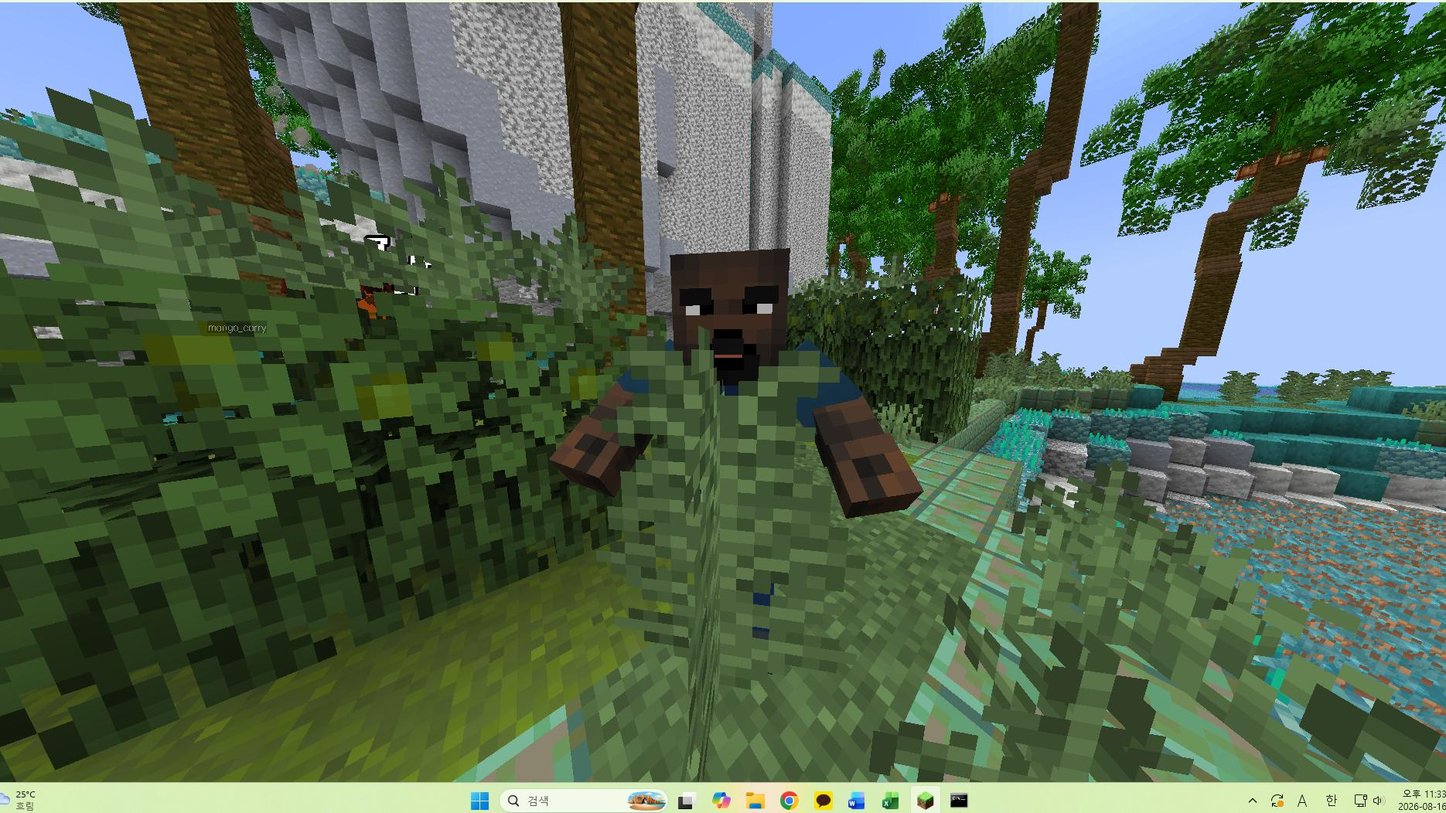Guardian: (672, 250, 789, 391), (800, 382, 920, 517), (551, 379, 650, 494), (551, 387, 650, 495)
